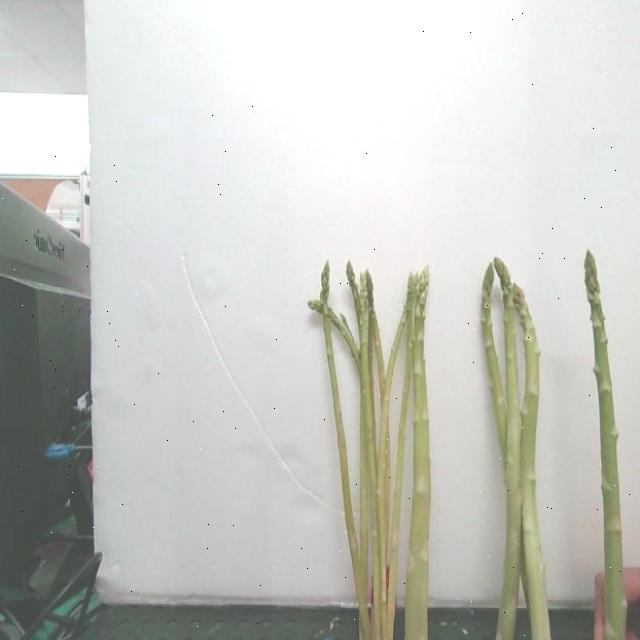aspargus: (585, 253, 627, 640)
